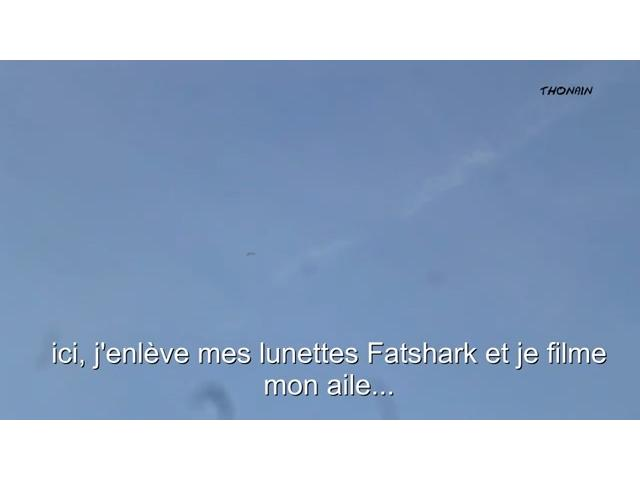Anti-Drone: (244, 249, 258, 259)
